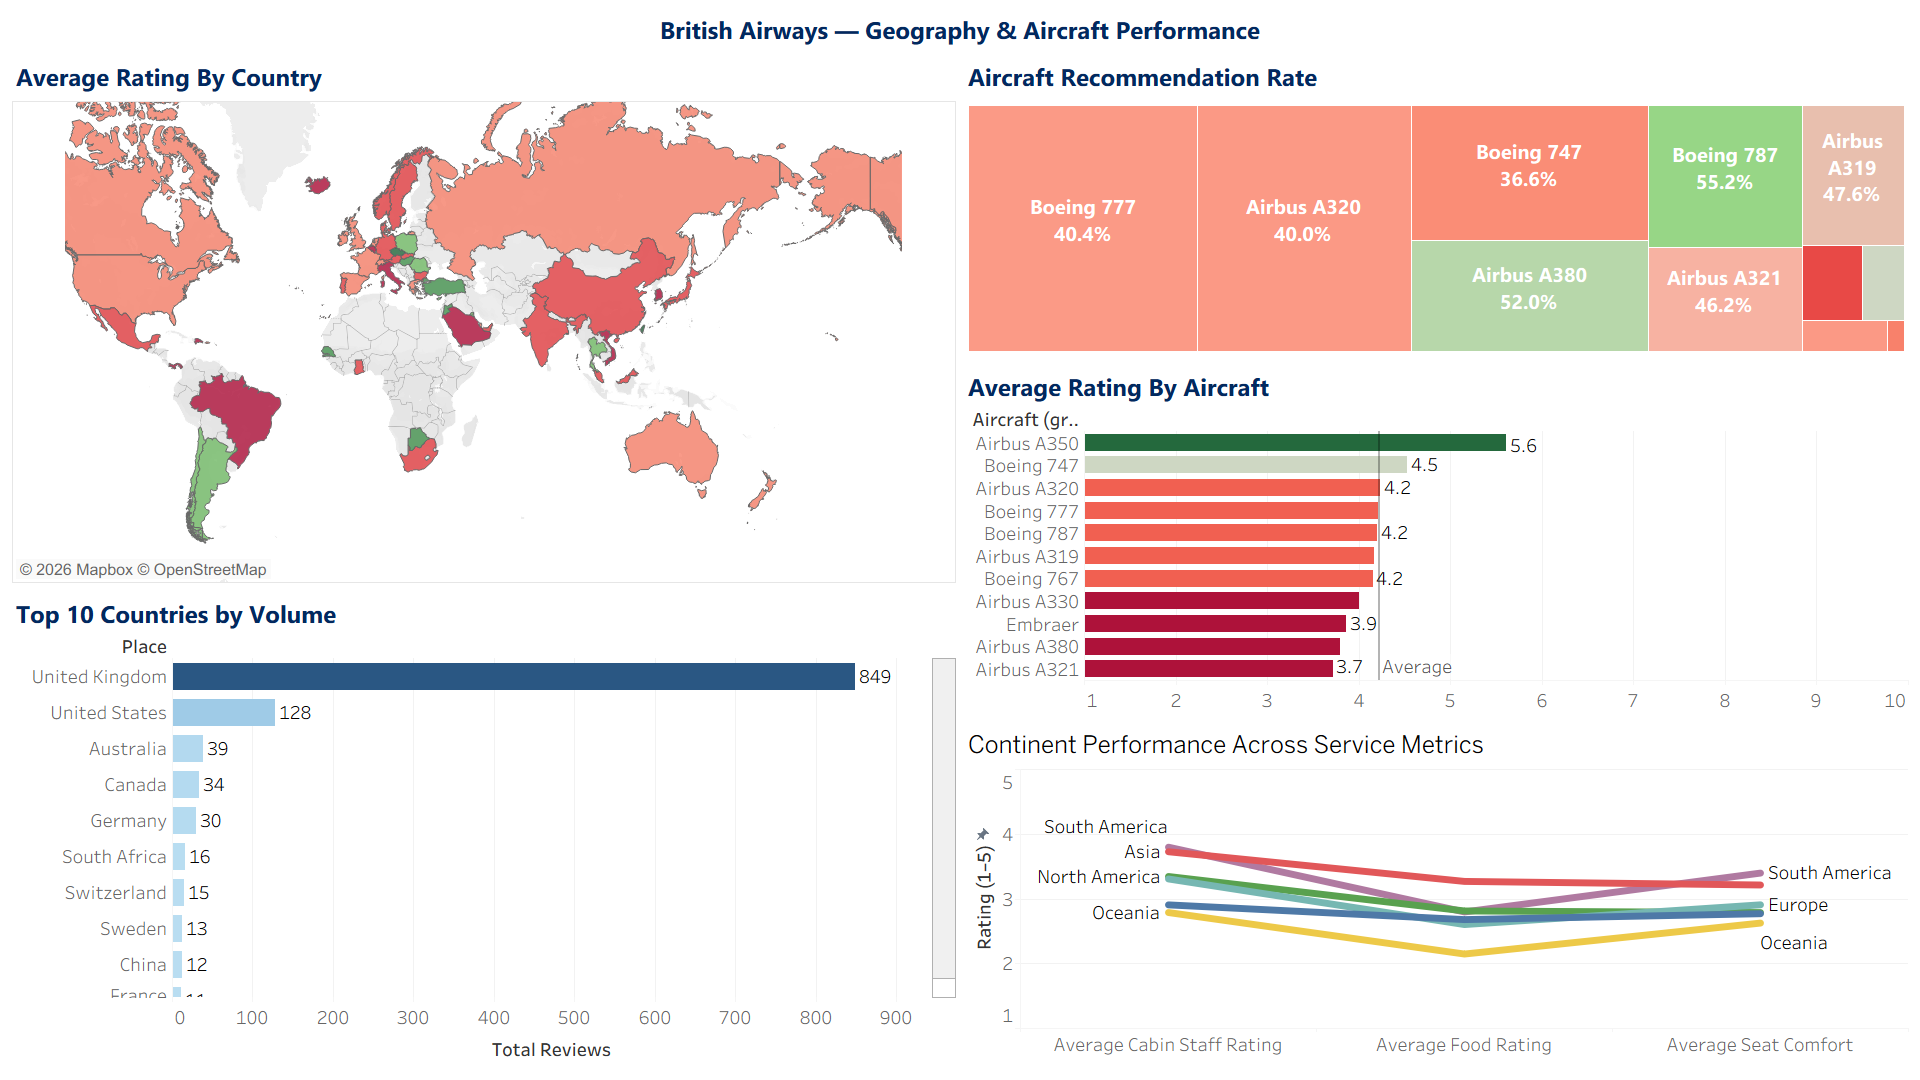

What the dashboard file says about the page in this screenshot:
{"tool":"tableau","page":{"name":"Dashboard 3 — Geography & Aircraft Performance","canvas":[1920,1080],"ordinal":2},"visuals":[{"type":"text","box":[8,8,1904,42.2]},{"type":"worksheet","title":"Country - Average Rating Map","mark":"Multipolygon","box":[8,50.2,952,536.7]},{"type":"worksheet","title":"Aircraft Recommendation Rate","mark":"Square","box":[960,50.2,952,309.6]},{"type":"worksheet","title":"Aircraft - Average Rating","mark":"Automatic","cols":["Calculation_25606821813547008"],"box":[960,359.8,952,359.4]},{"type":"worksheet","title":"Top 10 Countries by Volume","mark":"Automatic","rows":["place"],"cols":["Calculation_25606821813915649"],"box":[8,586.9,952,485.1]},{"type":"worksheet","title":"Continent - Average Rating","mark":"Line","box":[960,719.2,952,352.8]}]}

Visuals, with their boxes in screenshot pixels (x1, y1, x2, y2), scaled from the page's 1920x1080 canvas onto the 1920x1080 screenshot:
text: bbox=(8, 8, 1912, 50)
"Country - Average Rating Map" worksheet (Multipolygon marks): bbox=(8, 50, 960, 587)
"Aircraft Recommendation Rate" worksheet (Square marks): bbox=(960, 50, 1912, 360)
"Aircraft - Average Rating" worksheet: bbox=(960, 360, 1912, 719)
"Top 10 Countries by Volume" worksheet: bbox=(8, 587, 960, 1072)
"Continent - Average Rating" worksheet (Line marks): bbox=(960, 719, 1912, 1072)
